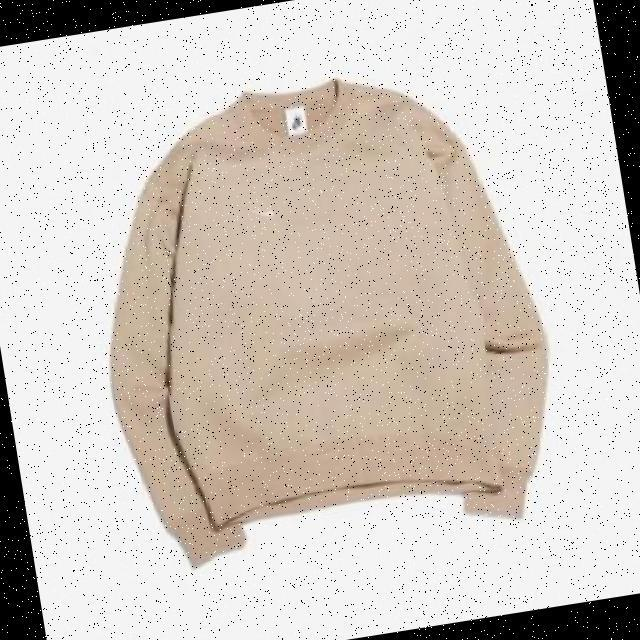Nike: (250, 202, 277, 219)
